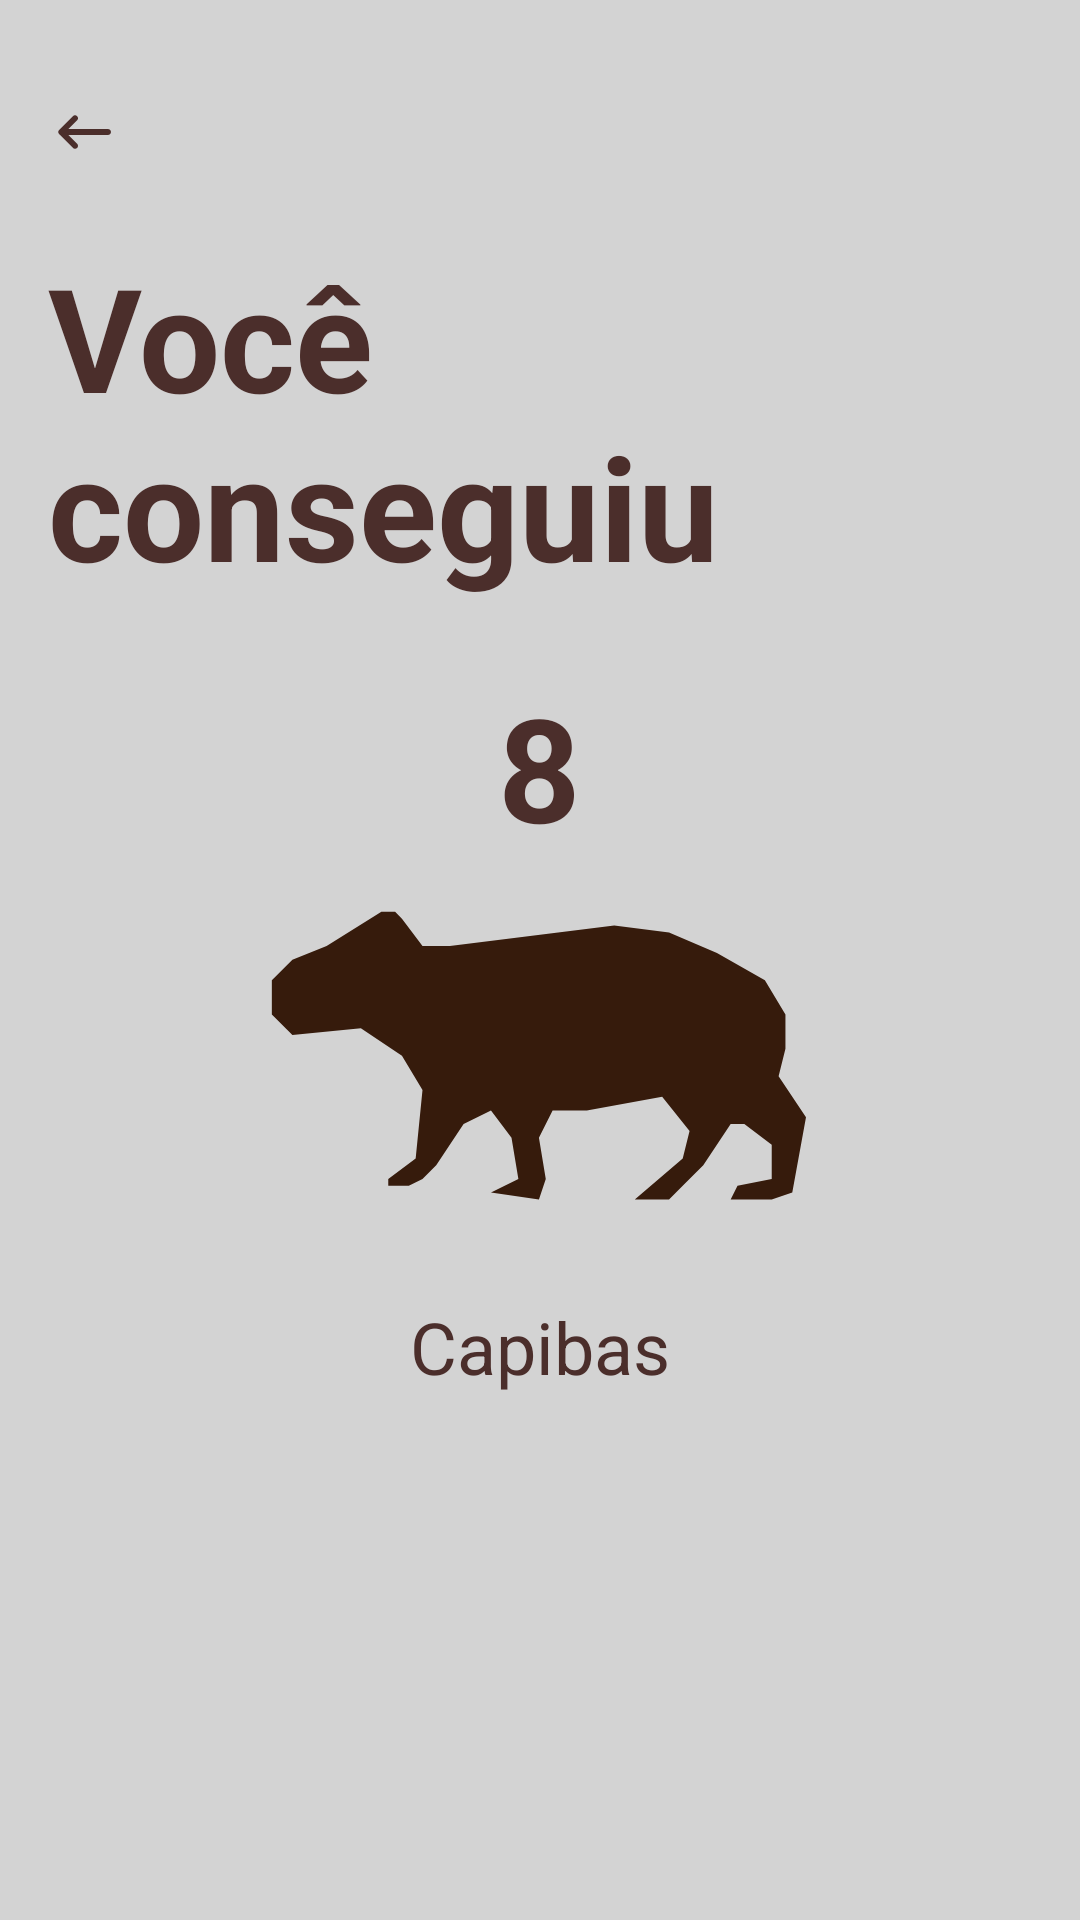

Icons on this 1080*1920 Android screen, each with the point to tap as point (x, y):
Voltar: point (84, 132)
